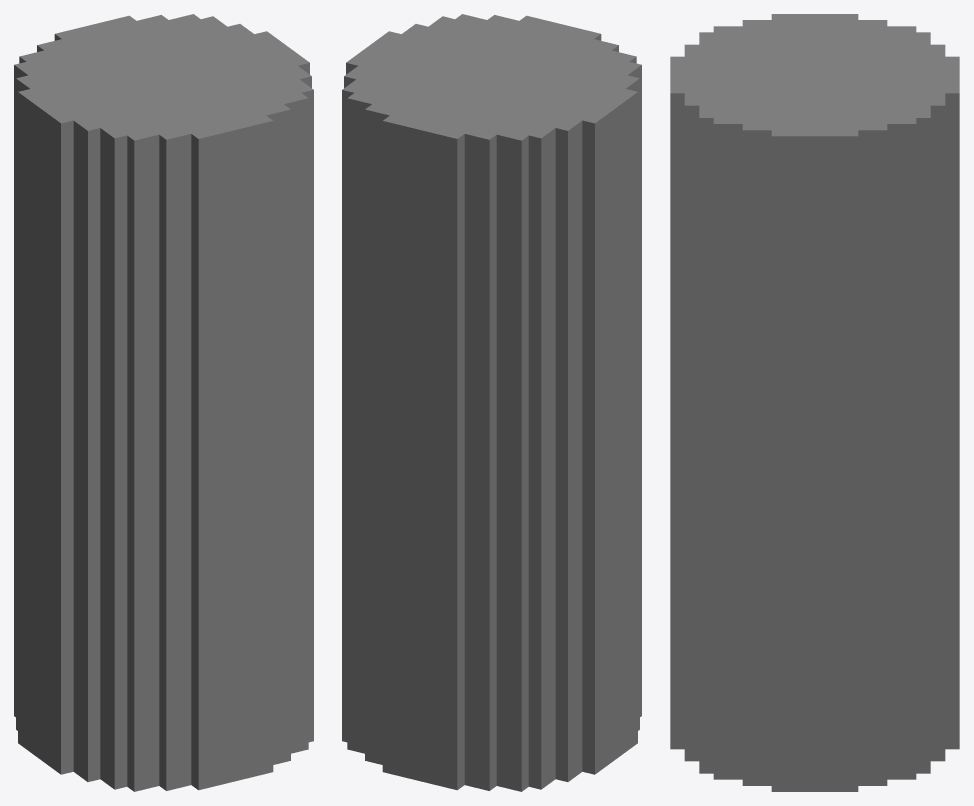
File: clind_middle.obj
The picture shows the model from 3 angles, left to right: view 1: azimuth 30°, elevation 25°; view 2: azimuth 150°, elevation 25°; view 3: azimuth 270°, elevation 25°; orthographic projection.
Size of the model in its own units: 2 by 5 by 2.
Materials: 1 (1 with a texture image).
